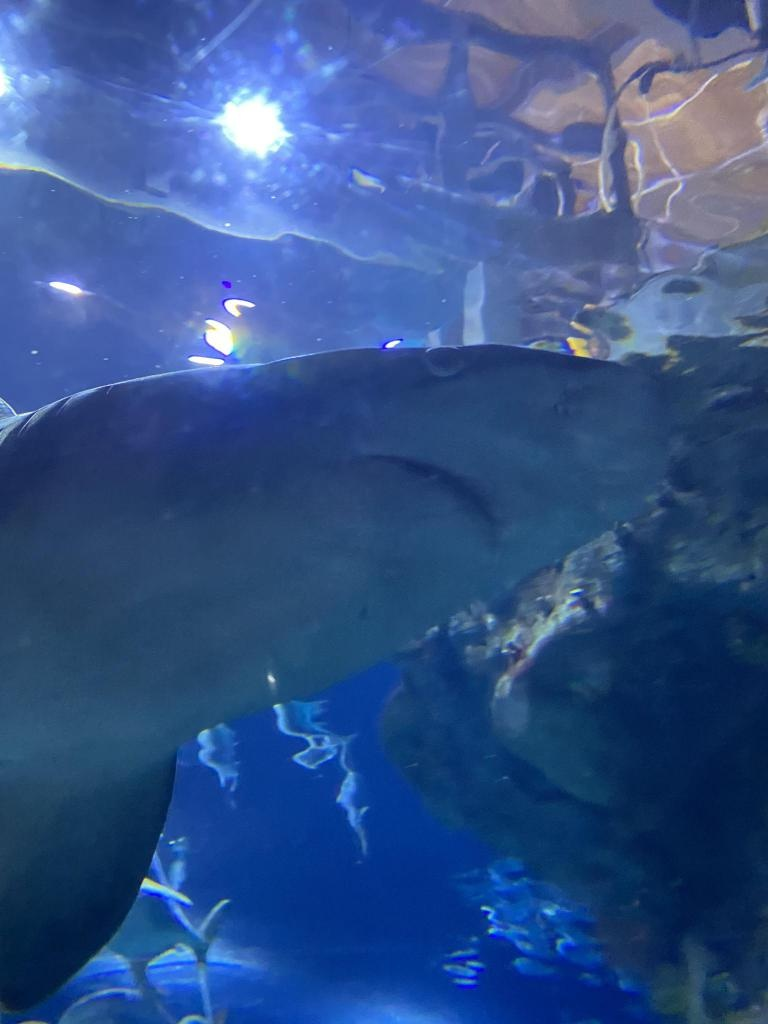fish: (107, 874, 235, 998)
shark: (0, 342, 676, 1010)
